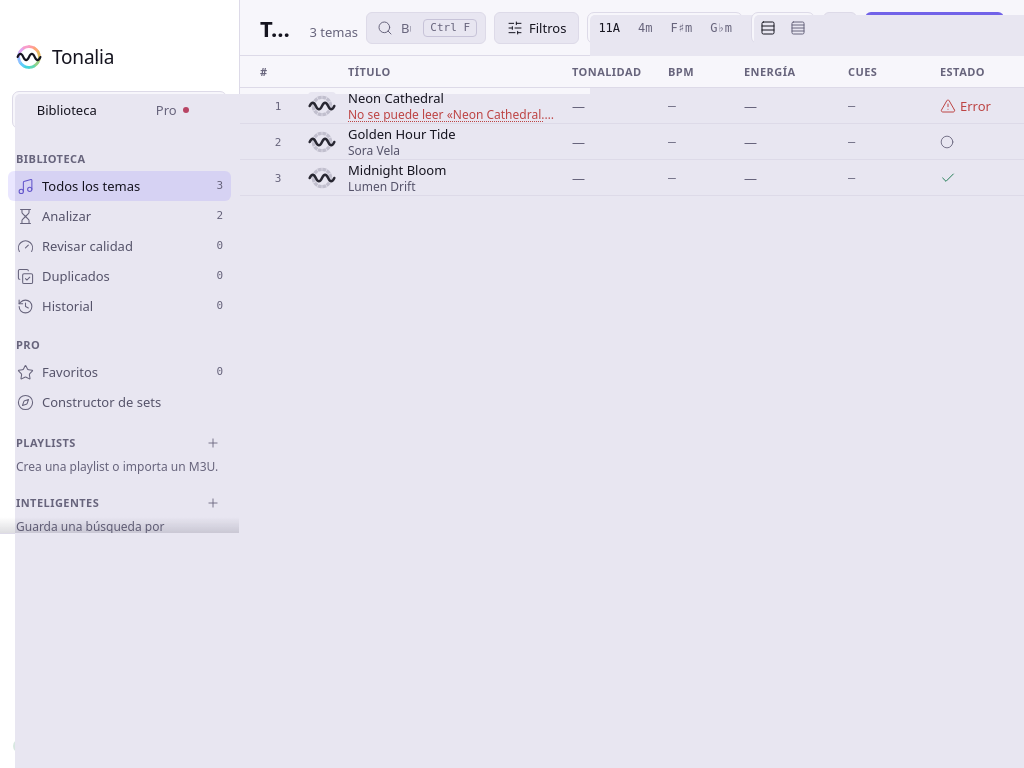
it: library › searches and offers to clear when nothing matches
Expected: the text "3 temas" is shown, [310,22,358,42]
In the search field named "Buscar título, artista, álbum…": (408, 28) [401,18,415,38], type "sora"
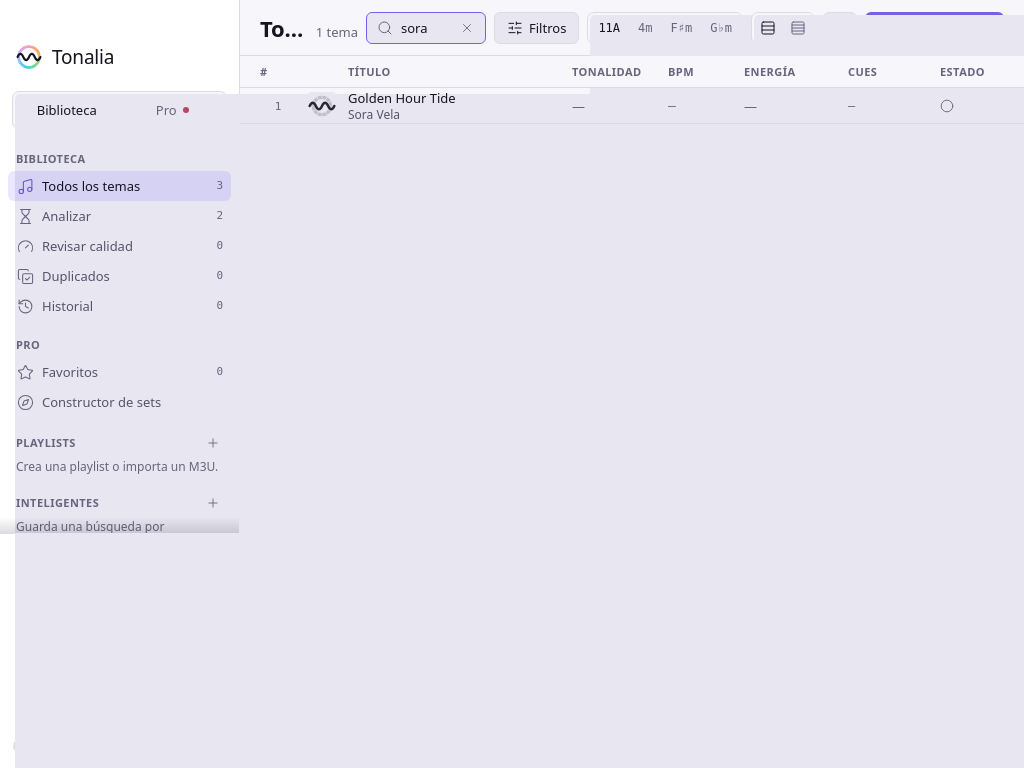
Now the text "1 tema" is shown, box [316,22,358,42]
Clear the search field named "Buscar título, artista, álbum…": (425, 28) [401,18,449,38]
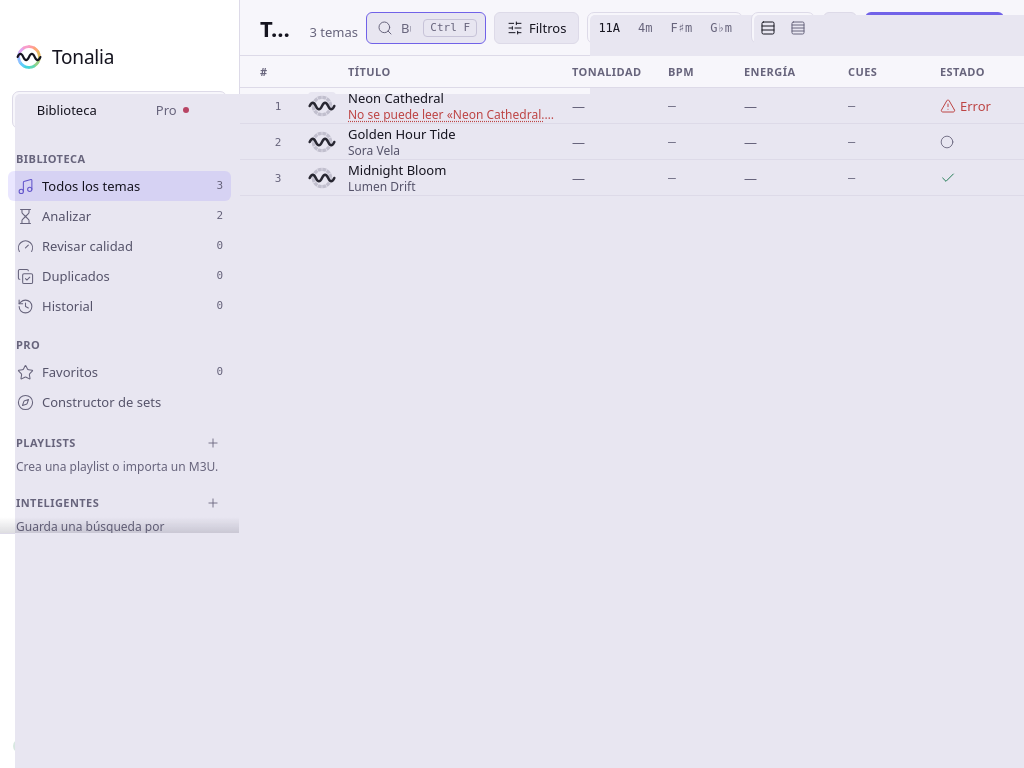
In the search field named "Buscar título, artista, álbum…": (408, 28) [401,18,415,38], type "zzz"
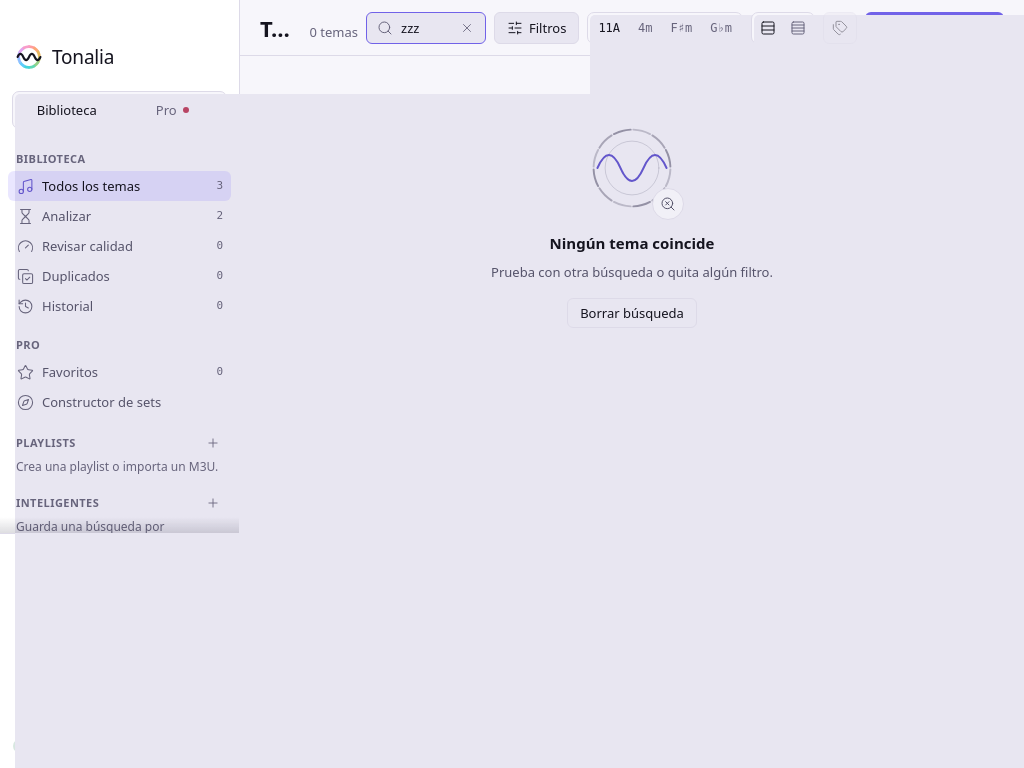
Now the heading "Ningún tema coincide" is shown, box [550,232,714,254]
Click the button "Borrar búsqueda": (632, 313) [567,298,697,328]
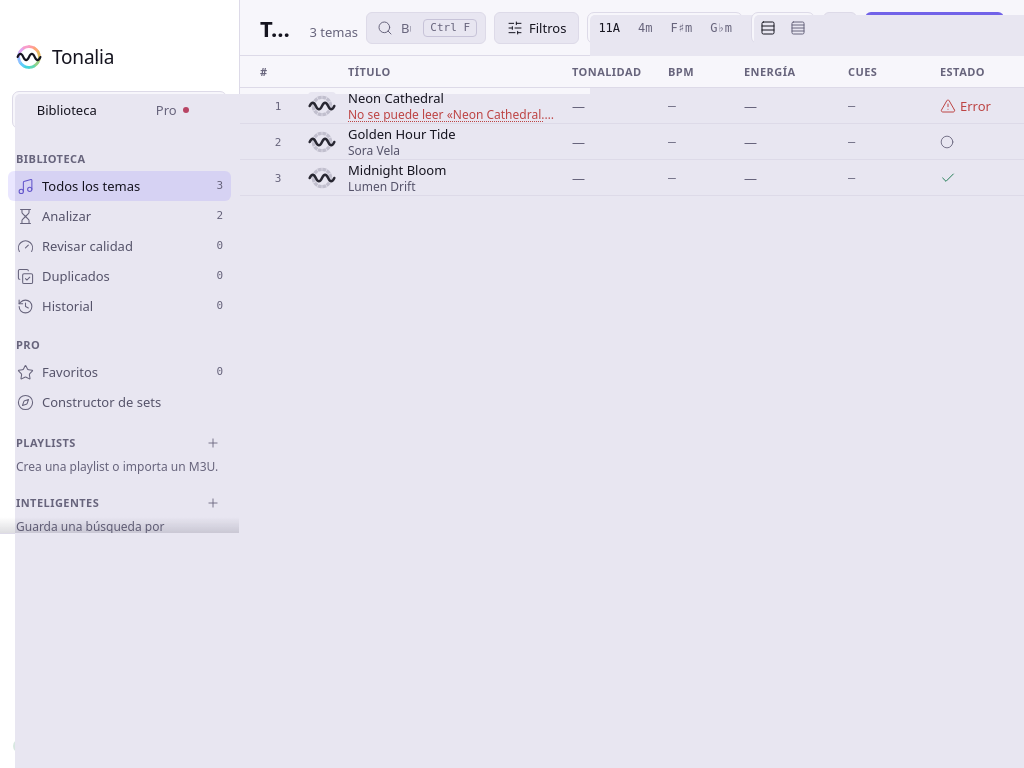
Now the text "3 temas" is shown, box [310,22,358,42]
